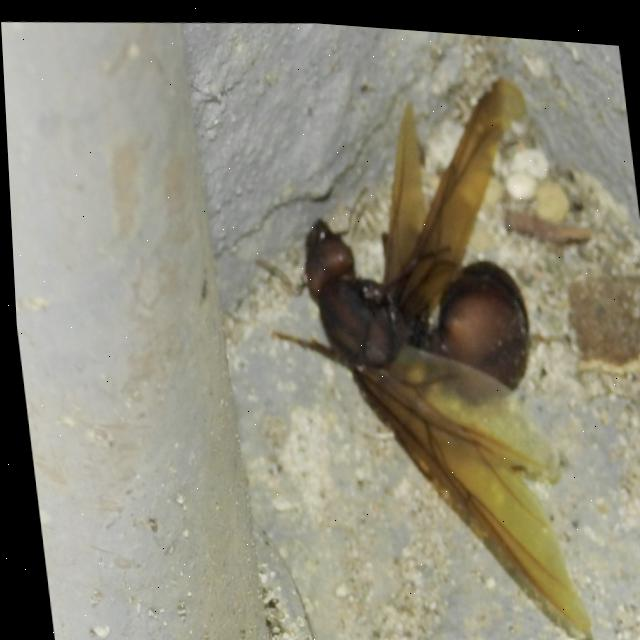Alive-Female-Alate: (230, 51, 587, 640)
